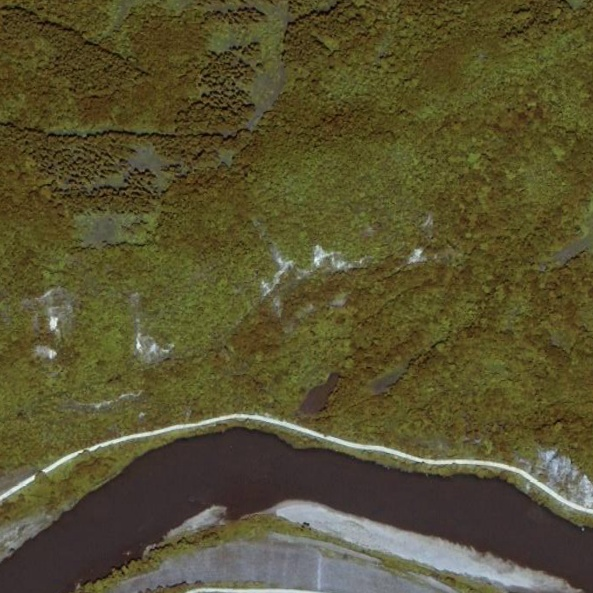slope: (526, 443, 591, 508)
